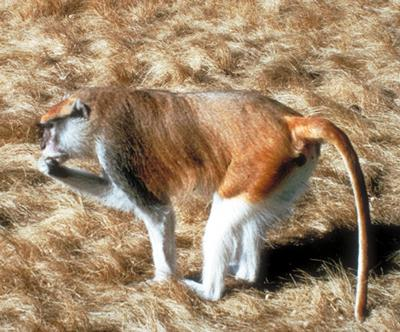monkey: (37, 87, 362, 303)
